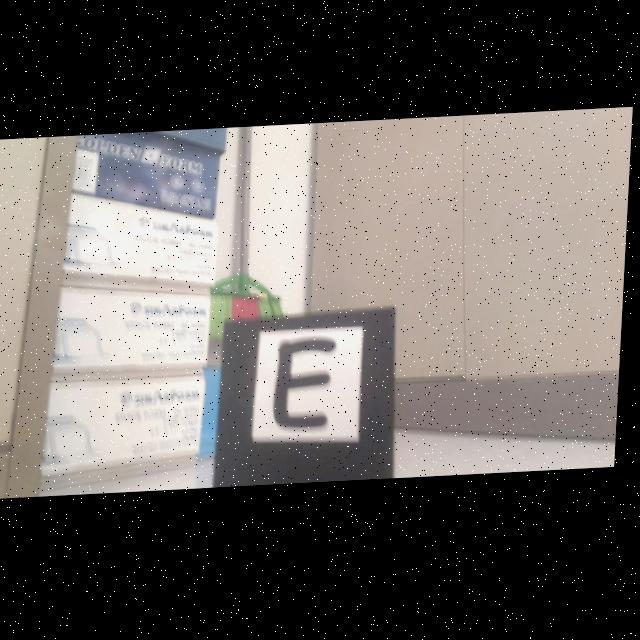E: (280, 345, 339, 430)
